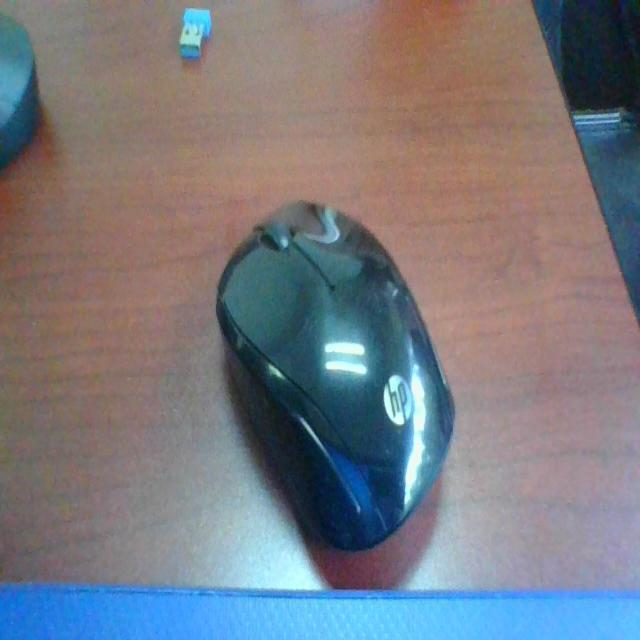Mouse: (218, 180, 470, 574)
